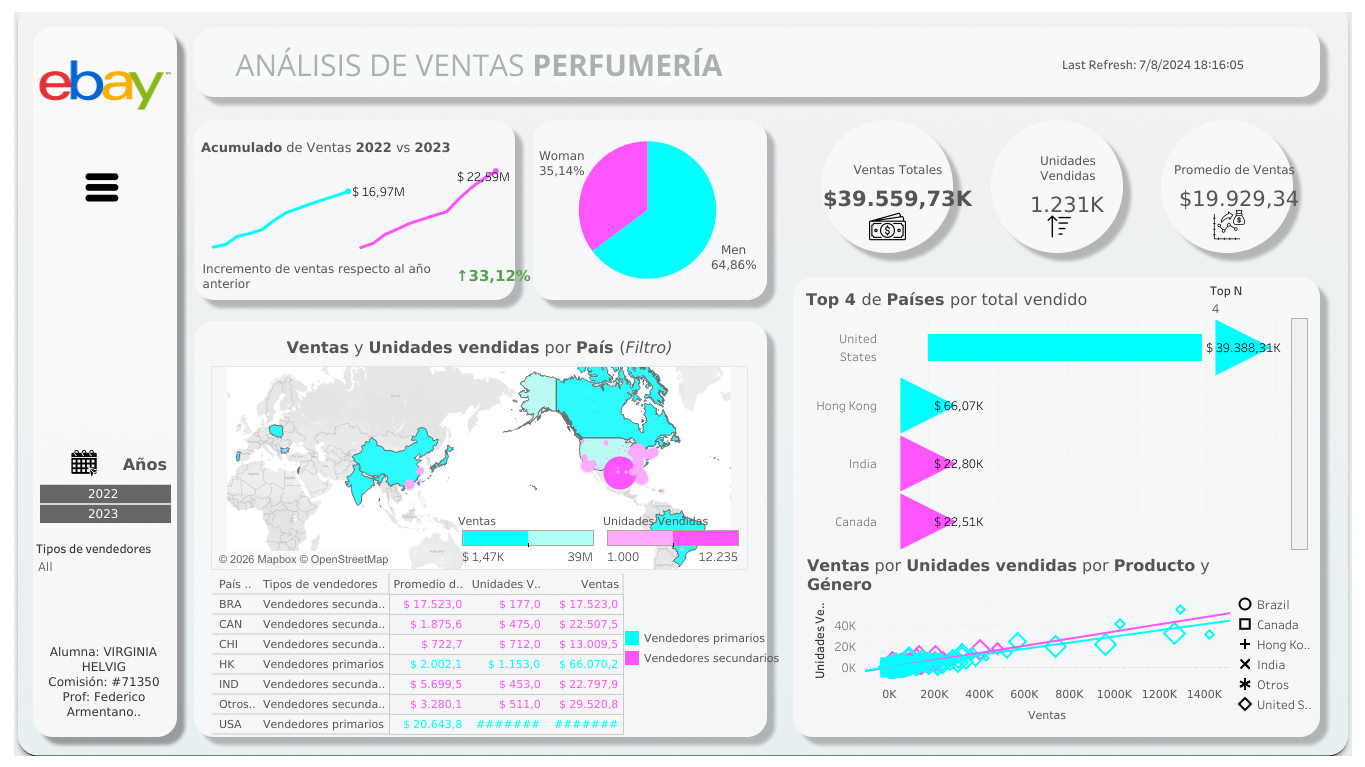

The dashboard page shown, as its layout file describes it:
{"tool":"tableau","page":{"name":"Dashboard 1","canvas":[1366,768],"ordinal":0},"visuals":[{"type":"image","param":"Image/Untitled (5).png","box":[8,8,1350,752]},{"type":"image","param":"Image/logo ebay.png","box":[33,54,144,85]},{"type":"worksheet","title":"Porcentaje ventas por género","mark":"Pie","box":[485,81,325,258]},{"type":"worksheet","title":"Acumulado de Ventas por año","mark":"Automatic","rows":["Ventas"],"cols":["Fecha"],"box":[197,133,314,119]},{"type":"worksheet","title":"KPI Unidades vendidas","mark":"Automatic","box":[1020,147,96,117]},{"type":"worksheet","title":"KPI Total ventas","mark":"Automatic","box":[817,156,142,68]},{"type":"worksheet","title":"KPI Promedio de ventas","mark":"Automatic","box":[1170,156,142,116]},{"type":"dashboard-object","box":[47,171,111,33]},{"type":"image","param":"Image/dinero.png","box":[869,208,72,37]},{"type":"image","param":"Image/el-precio-de-venta-promedio.png","box":[1213,208,42,32]},{"type":"image","param":"Image/cantidad.png","box":[1042,210,36,33]},{"type":"dashboard-object","box":[37,215,135,52]},{"type":"text","box":[200,255,274,42]},{"type":"dashboard-object","box":[37,267,135,52]},{"type":"worksheet","title":"% de diferencia de promedio de ventas por año (2)","mark":"Automatic","cols":["Fecha"],"box":[452,267,78,70]},{"type":"parameter","param":"[Parameters].[Parámetro 1]","box":[1218,279,95,41]},{"type":"worksheet","title":"Top N - Ventas por país","mark":"Shape","rows":["País"],"cols":["Ventas","Ventas"],"box":[802,284,506,265]},{"type":"dashboard-object","box":[37,319,135,52]},{"type":"worksheet","title":"Mapa","mark":"Automatic","box":[211,332,537,238]},{"type":"image","param":"Image/fecha.png","box":[70,406,65,30]},{"type":"worksheet","title":"Filtro Año","mark":"Bar","rows":["Fecha"],"cols":["Calculation_594756672984674305"],"box":[40,410,132,142]},{"type":"legend","title":"Mapa","param":"[federated.0iuf23o0ctprsw16fzcdq18ruu9r].[sum:Ventas:qk]","box":[458,509,140,76]},{"type":"legend","title":"Mapa","param":"[federated.0iuf23o0ctprsw16fzcdq18ruu9r].[sum:Unidades Vendidas:qk]","box":[603,509,140,76]},{"type":"filter","title":"Total ventas por unidades vendidas(Dispersión)","param":"[federated.0iuf23o0ctprsw16fzcdq18ruu9r].[usr:Calculation_1055569456721961:nk]","box":[37,538,138,100]},{"type":"worksheet","title":"Total ventas por unidades vendidas(Dispersión)","mark":"Automatic","rows":["Unidades Vendidas"],"cols":["Ventas"],"box":[803,550,427,179]},{"type":"worksheet","title":"Tipos de ventas","mark":"Automatic","rows":["Calculation_1055569271918758","Calculation_1055569456721961"],"box":[213,574,494,163]},{"type":"legend","title":"Total ventas por unidades vendidas(Dispersión)","param":"[federated.0iuf23o0ctprsw16fzcdq18ruu9r].[País (grupo)]","box":[1234,594,78,159]},{"type":"legend","title":"Tipos de ventas","param":"[federated.0iuf23o0ctprsw16fzcdq18ruu9r].[usr:Calculation_1055569456721961:nk]","box":[622,628,158,54]},{"type":"text","box":[28,649,154,80]}]}

Visuals, with their boxes in screenshot pixels (x1, y1, x2, y2), scaled from the page's 1366x768 canvas onto the 1365x767 screenshot:
image: 8/8/1357/759
image: 33/54/177/139
"Porcentaje ventas por género" worksheet (Pie marks): 485/81/809/339
"Acumulado de Ventas por año" worksheet: 197/133/511/252
"KPI Unidades vendidas" worksheet: 1019/147/1115/264
"KPI Total ventas" worksheet: 816/156/958/224
"KPI Promedio de ventas" worksheet: 1169/156/1311/272
dashboard-object: 47/171/158/204
image: 868/208/940/245
image: 1212/208/1254/240
image: 1041/210/1077/243
dashboard-object: 37/215/172/267
text: 200/255/474/297
dashboard-object: 37/267/172/319
"% de diferencia de promedio de ventas por año (2)" worksheet: 452/267/530/337
parameter: 1217/279/1312/320
"Top N - Ventas por país" worksheet (Shape marks): 801/284/1307/548
dashboard-object: 37/319/172/371
"Mapa" worksheet: 211/332/747/569
image: 70/405/135/435
"Filtro Año" worksheet (Bar marks): 40/409/172/551
"Mapa" legend: 458/508/598/584
"Mapa" legend: 603/508/742/584
"Total ventas por unidades vendidas(Dispersión)" filter: 37/537/175/637
"Total ventas por unidades vendidas(Dispersión)" worksheet: 802/549/1229/728
"Tipos de ventas" worksheet: 213/573/706/736
"Total ventas por unidades vendidas(Dispersión)" legend: 1233/593/1311/752
"Tipos de ventas" legend: 622/627/779/681
text: 28/648/182/728
